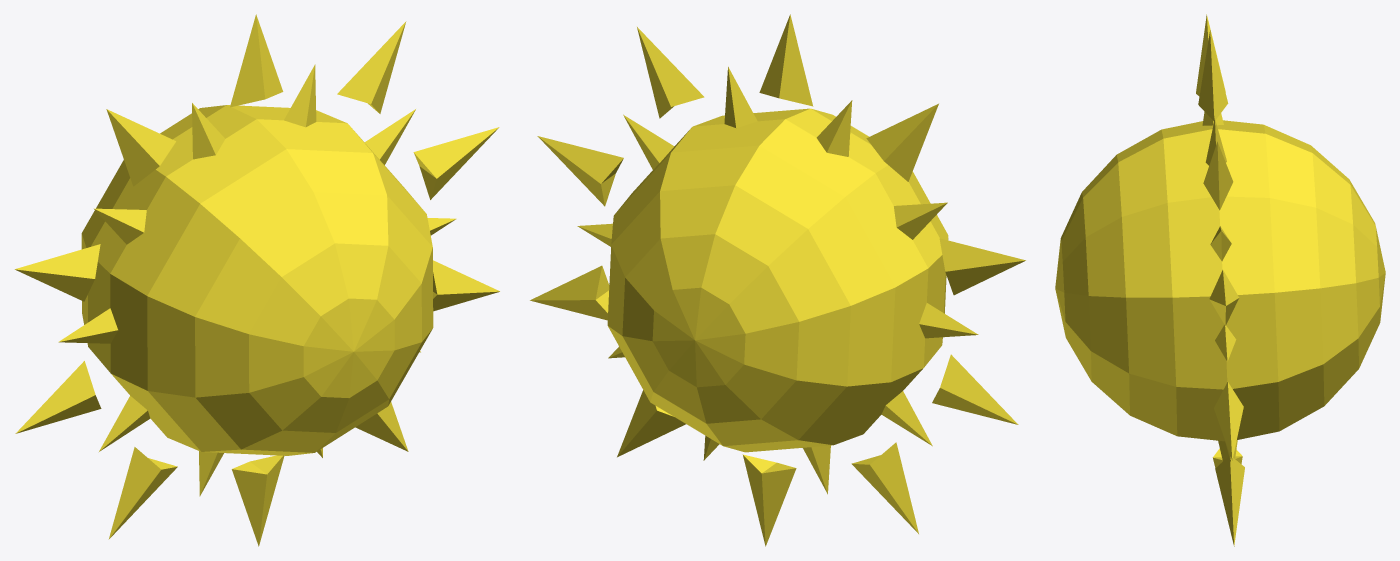
Rendered from sun.gltf.
The picture shows the model from 3 angles, left to right: view 1: azimuth 30°, elevation 25°; view 2: azimuth 150°, elevation 25°; view 3: azimuth 270°, elevation 25°; orthographic projection. The views are drawn at different scales.
Parts seen in each view (by area): view 1: node-0.001; view 2: node-0.001; view 3: node-0.001.
Boxes of the visible parts, x1=… form: node-0.001: x1=15, y1=14, x2=499, y2=546; node-0.001: x1=530, y1=14, x2=1025, y2=546; node-0.001: x1=1055, y1=14, x2=1385, y2=546.
Size of the model in its own units: 1.01 by 1.05 by 0.6364.
